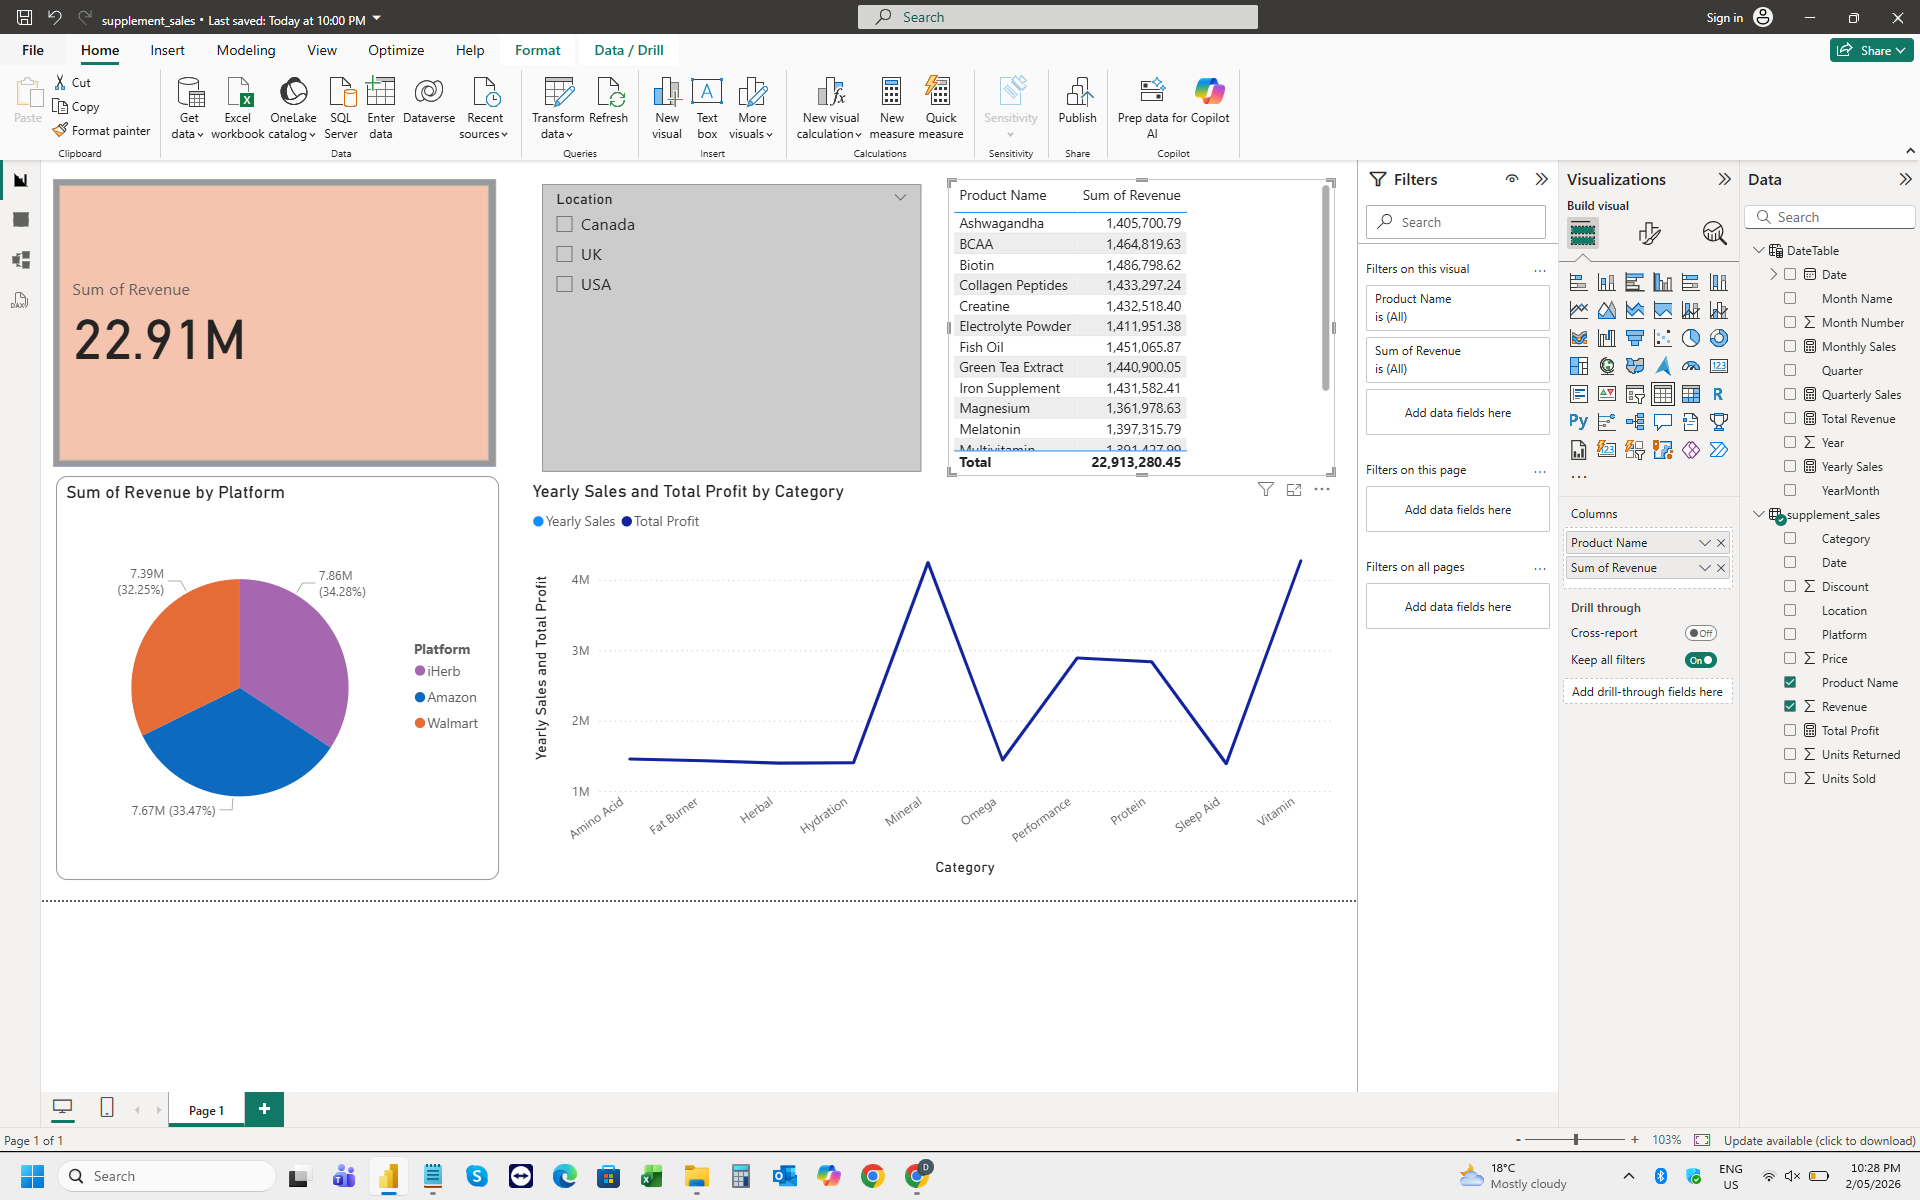

This screenshot's page, from the dashboard's own definition file:
{"tool":"powerbi","page":{"name":"Page 1","canvas":[1280,720],"ordinal":0},"visuals":[{"type":"pieChart","fields":{"Category":["supplement_sales.Platform"],"Y":["Sum(supplement_sales.Revenue)"]},"box":[14.6,307.4,430.9,392.9],"z":0},{"type":"cardVisual","fields":{"Data":["Sum(supplement_sales.Revenue)"]},"box":[12,18.5,430.9,280.1],"z":1},{"type":"lineChart","fields":{"Category":["supplement_sales.Category"],"Y":["DateTable.Yearly Sales","supplement_sales.Total Profit"]},"box":[472.2,312.2,786.7,388.9],"z":2},{"type":"slicer","fields":{"Values":["supplement_sales.Location"]},"box":[487.8,23.3,368.9,280],"z":3},{"type":"tableEx","fields":{"Values":["supplement_sales.Product Name","Sum(supplement_sales.Revenue)"]},"box":[882.2,18.9,376.7,288.9],"z":4}]}

Visuals, with their boxes on the page's 1280x720 design canvas (x1, y1, x2, y2). These are canvas units, not pixel positions in the 1920x1200 screenshot, which may show the page scaled, cropped or inside an application window:
pieChart - supplement_sales.Platform x Sum(supplement_sales.Revenue): BBox(15, 307, 446, 700)
cardVisual - Sum(supplement_sales.Revenue): BBox(12, 18, 443, 299)
lineChart - supplement_sales.Category x DateTable.Yearly Sales: BBox(472, 312, 1259, 701)
slicer - supplement_sales.Location: BBox(488, 23, 857, 303)
tableEx - supplement_sales.Product Name x Sum(supplement_sales.Revenue): BBox(882, 19, 1259, 308)
